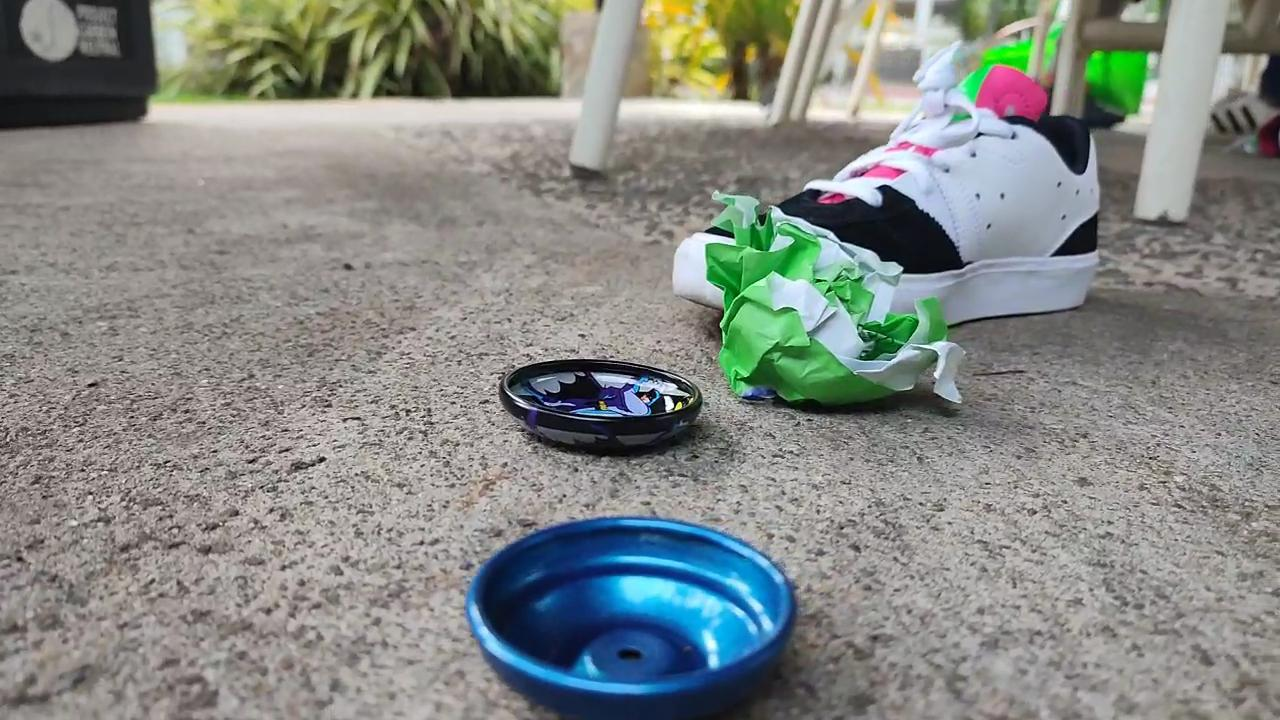Paper: (687, 199, 969, 415)
